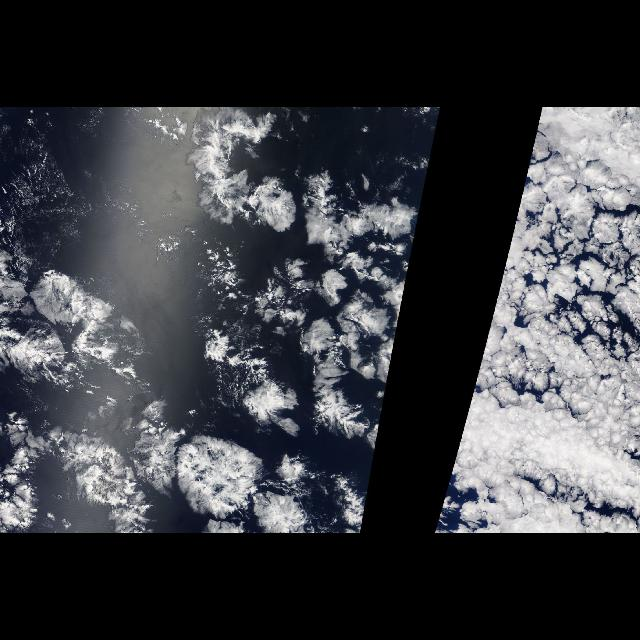Flower: (0, 109, 426, 533)
